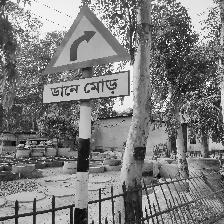Right-turn: (38, 7, 130, 106)
